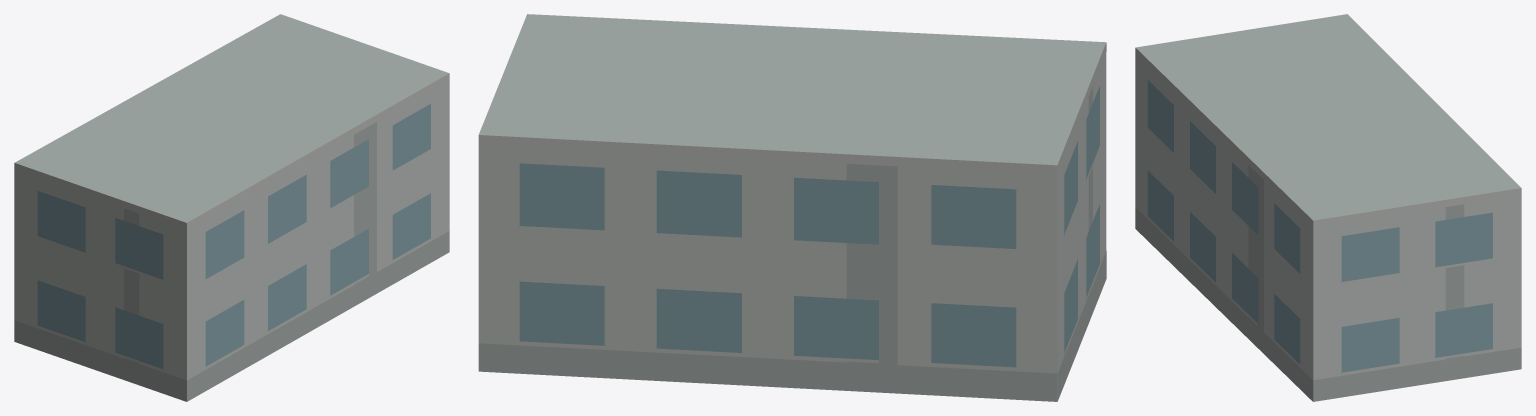
Rendered from survey-upis-32739303.glb.
3 views of the same model, side by side, from view 1: azimuth 30°, elevation 25°; view 2: azimuth 150°, elevation 25°; view 3: azimuth 270°, elevation 25° (orthographic). The views are drawn at different scales.
Parts seen in each view (by area): view 1: survey-upis-32739303.tmp; view 2: survey-upis-32739303.tmp; view 3: survey-upis-32739303.tmp.
Boxes of the visible parts, x1,y1,x2,y2 form: survey-upis-32739303.tmp: (14,14,449,401); survey-upis-32739303.tmp: (478,14,1106,401); survey-upis-32739303.tmp: (1135,14,1521,401).
Size of the model in its own units: 14.92 by 6.1 by 11.79.
